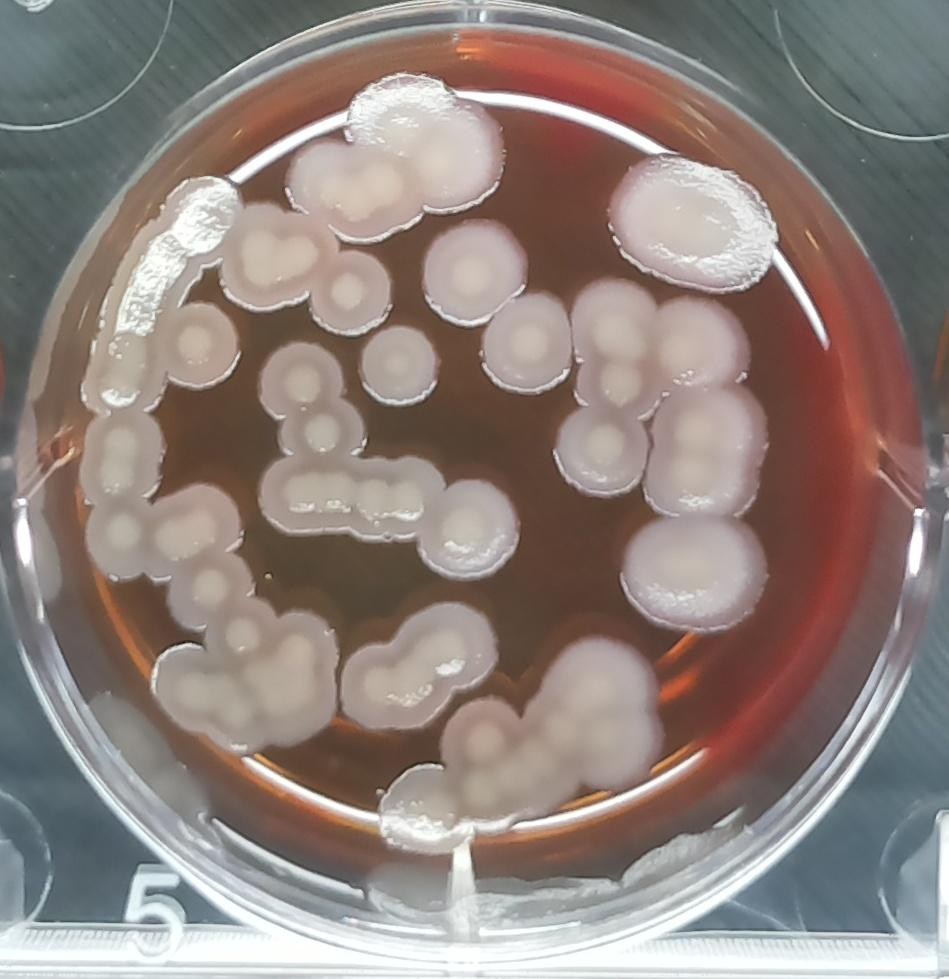bcereus: (590, 138, 786, 301), (642, 380, 780, 524), (543, 395, 652, 509)
